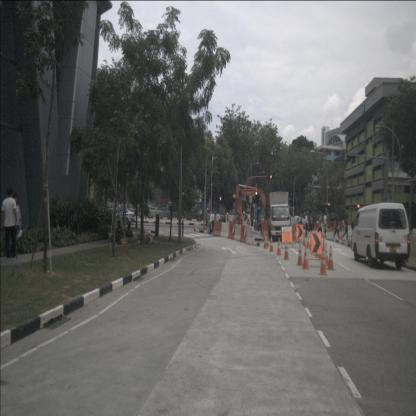barrier: (245, 225, 255, 247), (220, 222, 231, 238), (212, 221, 222, 237), (240, 225, 248, 244), (234, 224, 242, 242), (228, 223, 236, 240), (332, 224, 342, 232), (314, 222, 320, 231)
cone: (319, 247, 328, 276), (326, 246, 335, 270), (302, 244, 310, 270), (296, 243, 304, 267), (284, 240, 290, 261), (276, 238, 282, 256), (268, 235, 274, 253), (306, 236, 311, 249), (263, 233, 267, 249), (347, 232, 351, 245), (302, 236, 306, 247), (339, 232, 343, 243), (202, 222, 206, 230), (193, 222, 195, 231)
